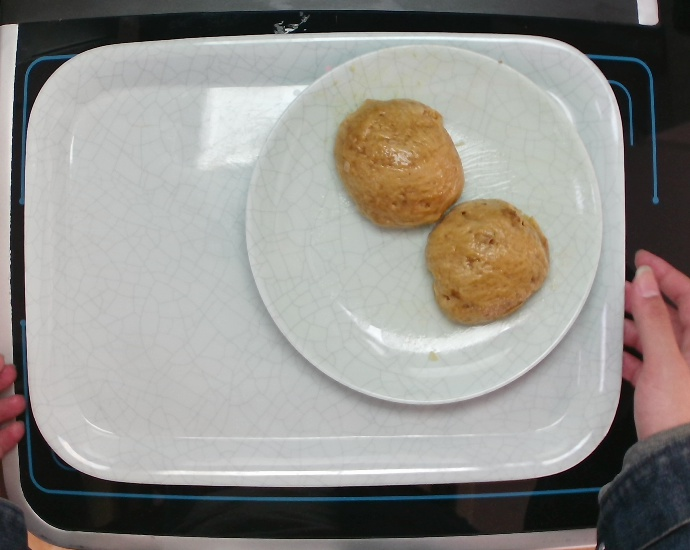JYsf-Da_Yuan_Pan: (242, 44, 608, 412)
